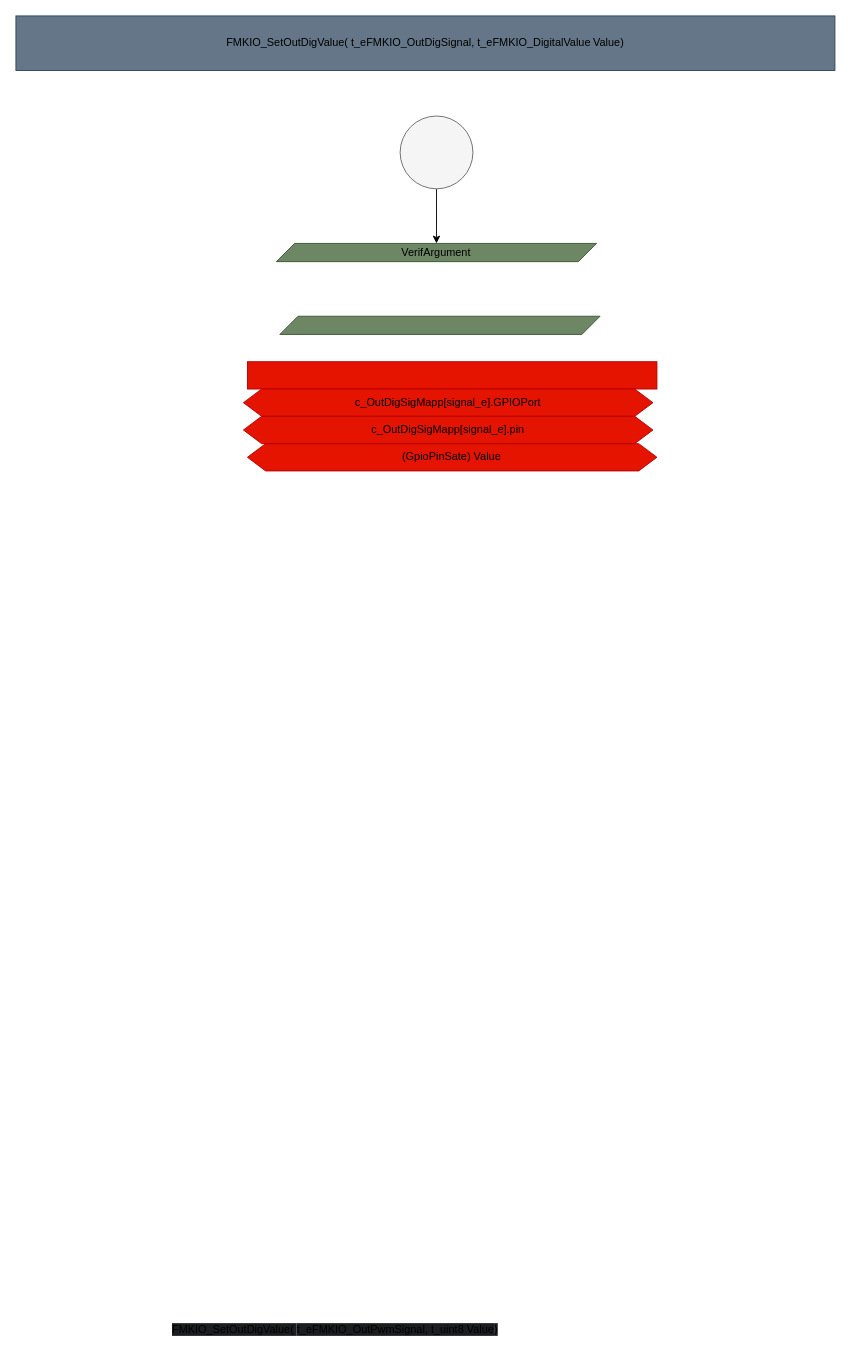
The diagram is 851 pixels wide and 1370 high, and some of its shapes have lost their labels. The shapes that lost their labels are listed below. From the top down, each one's centre as x and y in pixels, then its label:
At point (436, 152): "Start".
At point (439, 324): "Convert t_eFMKIO_DigitalValue into Gpio_pinState".
At point (452, 375): "HAL_GPIO_WritePin".
